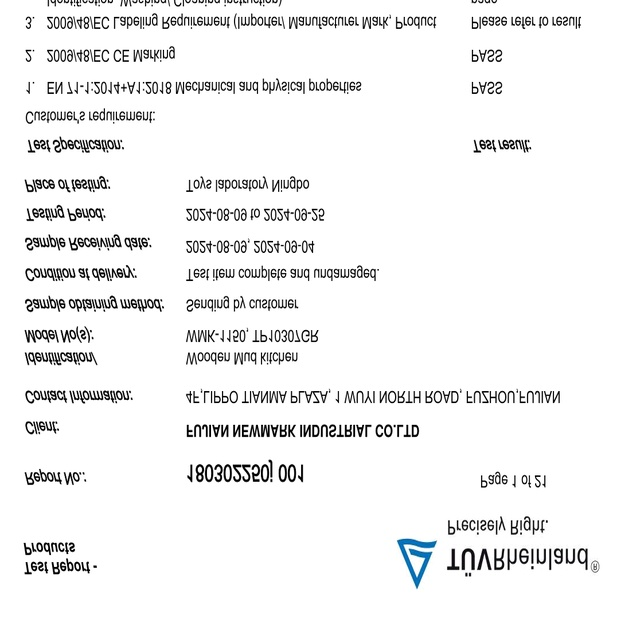tuv_rheinland: (394, 533, 608, 592)
